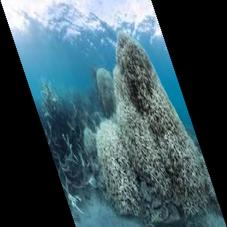bleached_corals: (63, 21, 226, 227)
